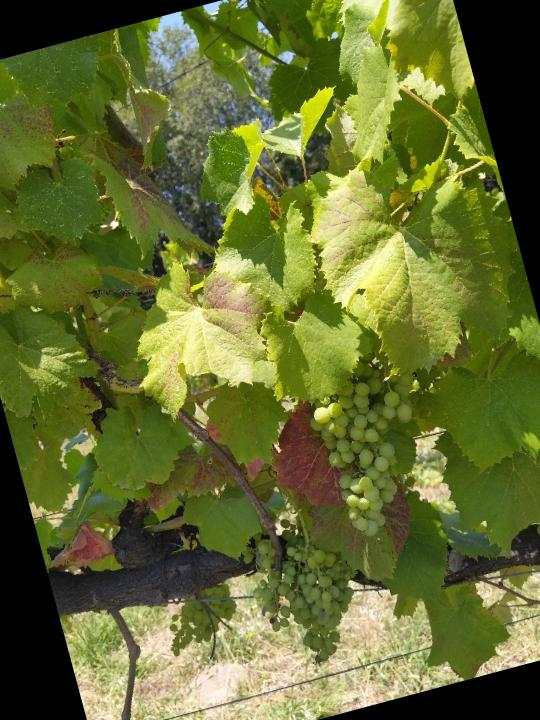grape: (297, 346, 444, 548), (229, 496, 375, 678), (154, 582, 247, 669)
